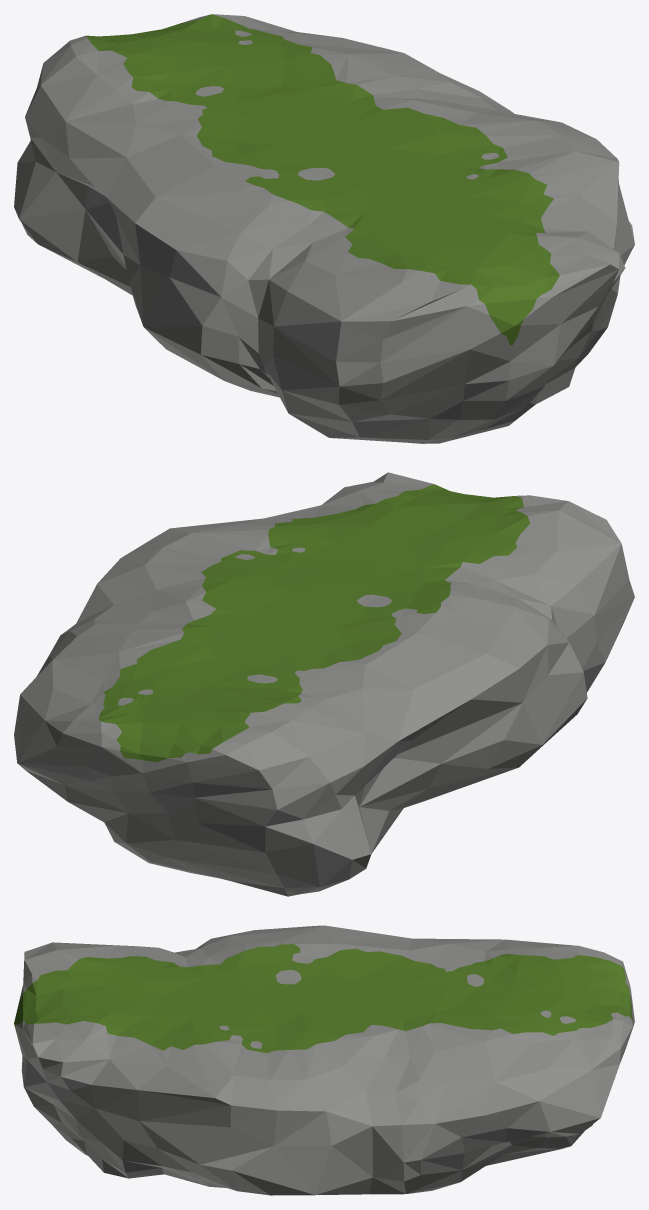
Rendered from Cavern_FloorGrass_Narrow_Straight-01.fbx.
3 views of the same model, one above another, from view 1: azimuth 30°, elevation 25°; view 2: azimuth 150°, elevation 25°; view 3: azimuth 270°, elevation 25° (orthographic). The views are drawn at different scales.
Visible parts, largest first — view 1: Cavern_FloorGrass_Narrow_Straight-01; view 2: Cavern_FloorGrass_Narrow_Straight-01; view 3: Cavern_FloorGrass_Narrow_Straight-01.
Boxes of the visible parts, left/top/right/bottom form: Cavern_FloorGrass_Narrow_Straight-01: left=14, top=14, right=634, bottom=443; Cavern_FloorGrass_Narrow_Straight-01: left=14, top=472, right=634, bottom=896; Cavern_FloorGrass_Narrow_Straight-01: left=14, top=925, right=634, bottom=1195.
Bounding box in the file's own units: 1252 × 508 × 1743.
Materials: 1 (1 with a texture image).
